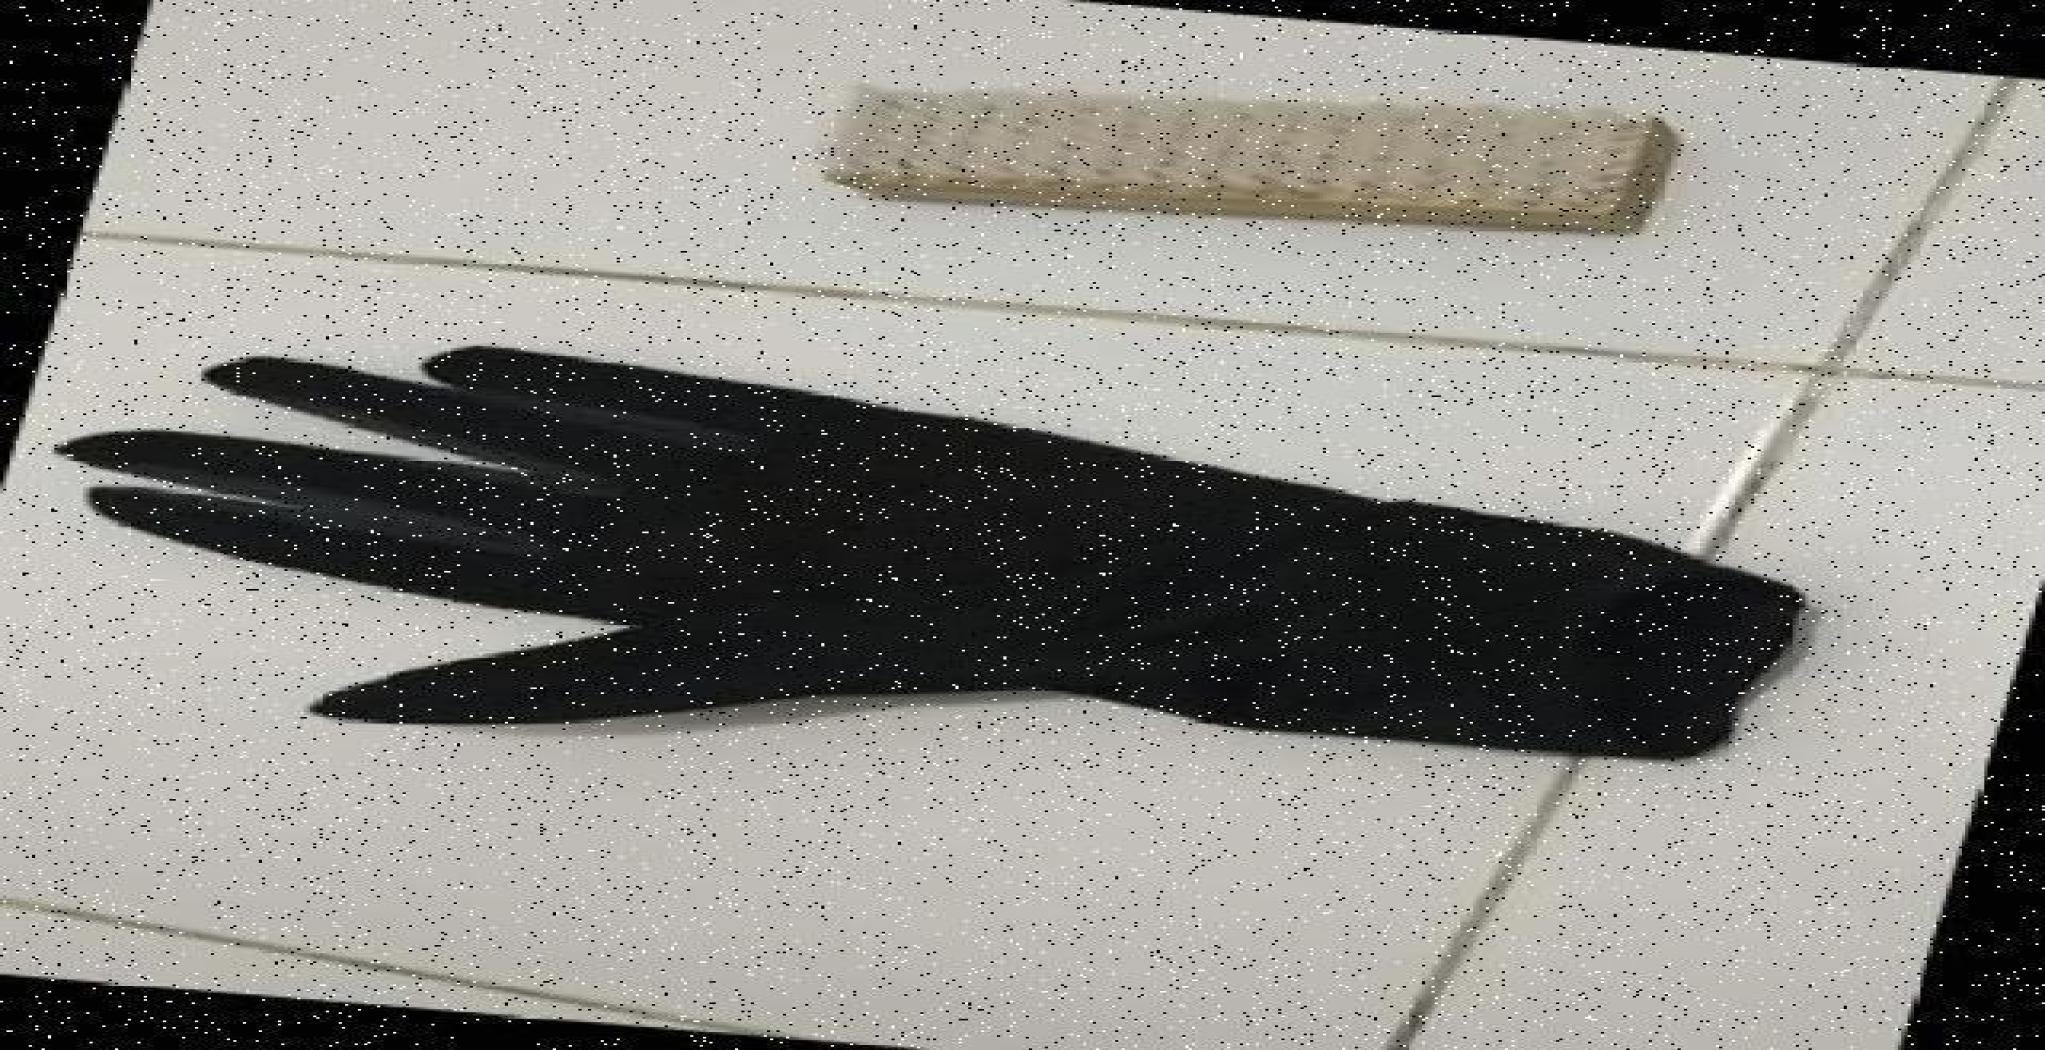gloved: (51, 343, 1805, 759)
